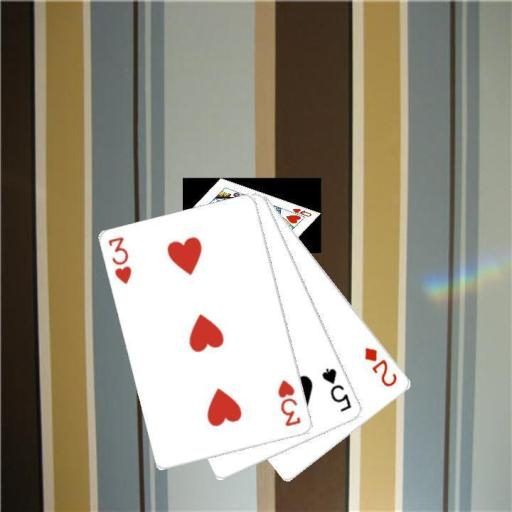card-corner: (318, 365, 354, 413), (361, 344, 399, 389), (105, 234, 134, 286), (275, 377, 303, 428)
